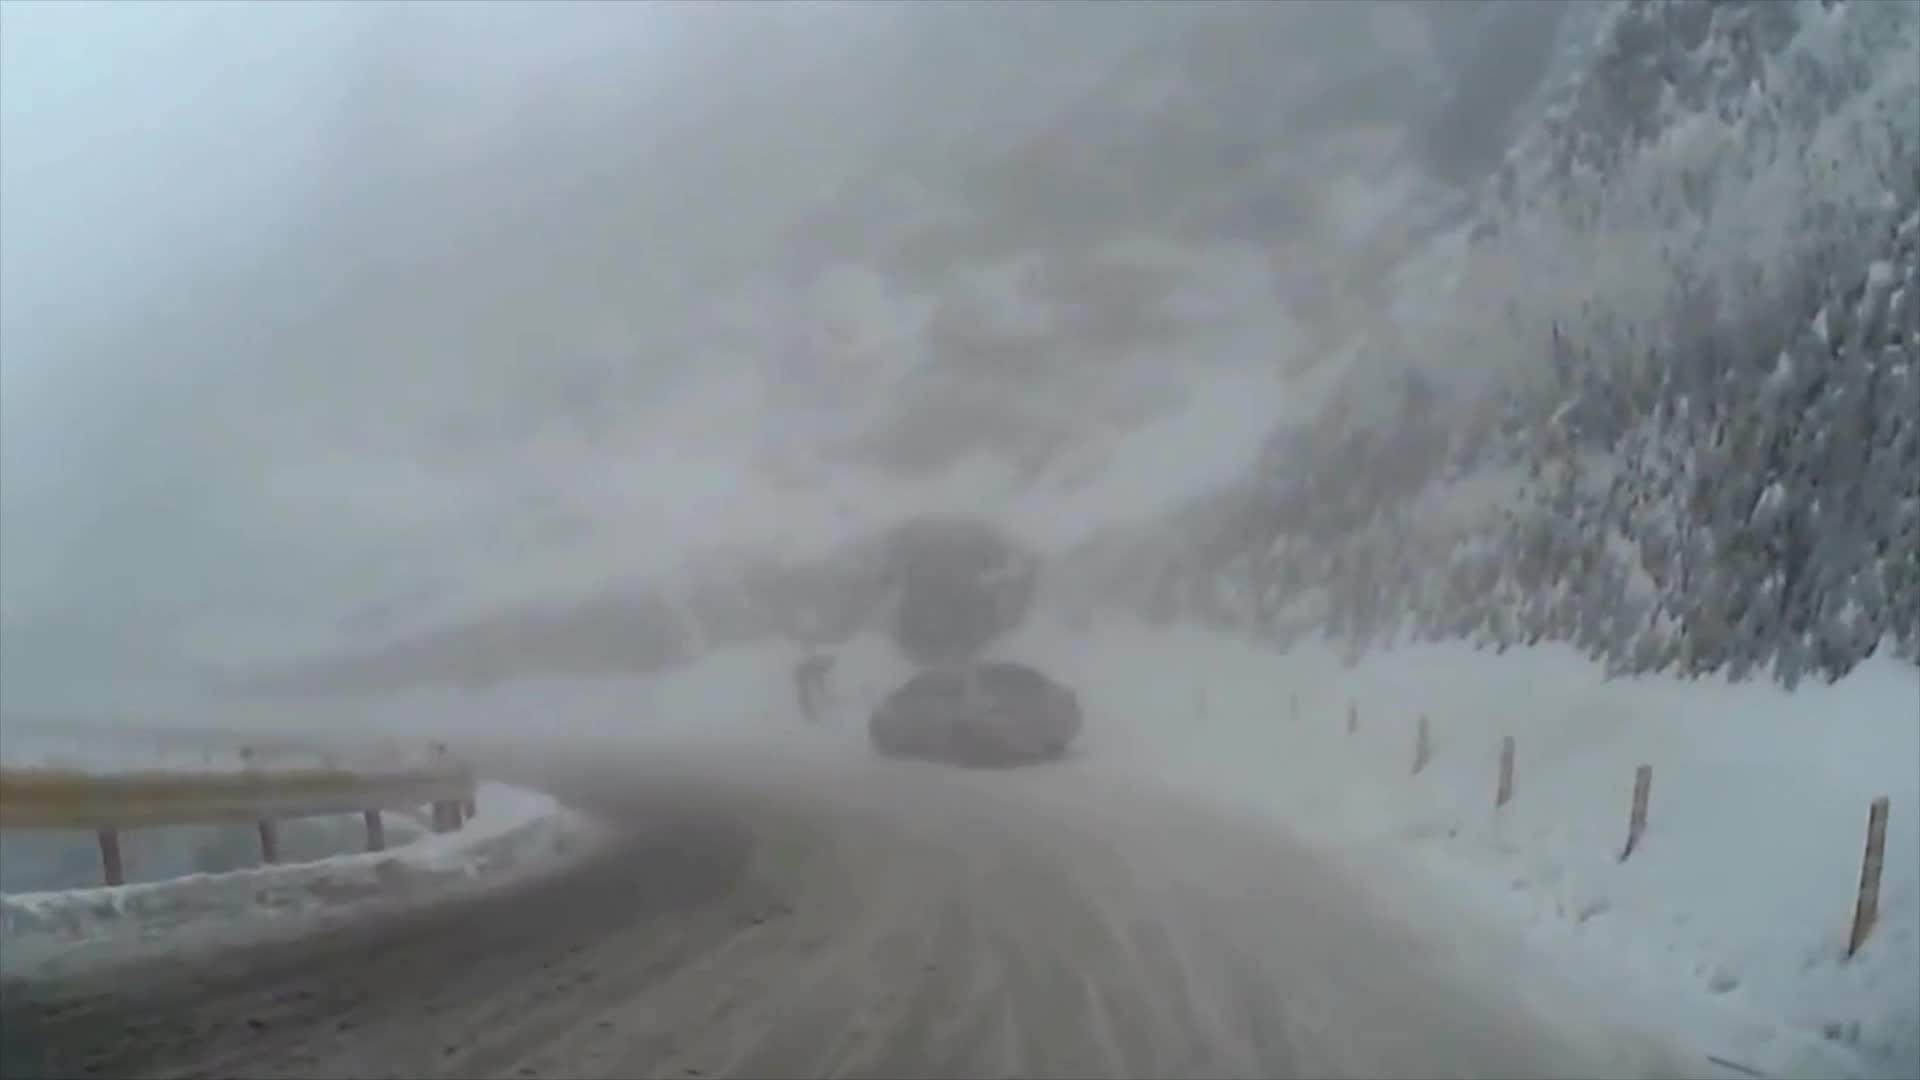pedestrian: (792, 655, 841, 726)
vehicle: (868, 660, 1081, 767)
